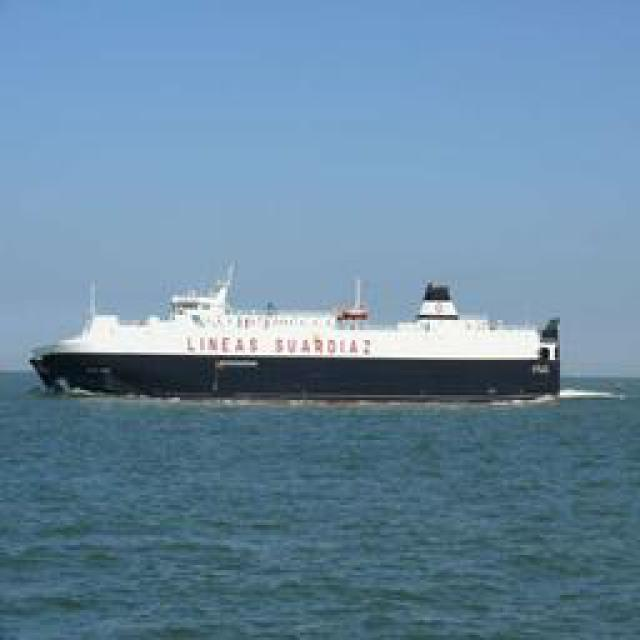Ship: (32, 265, 570, 403)
